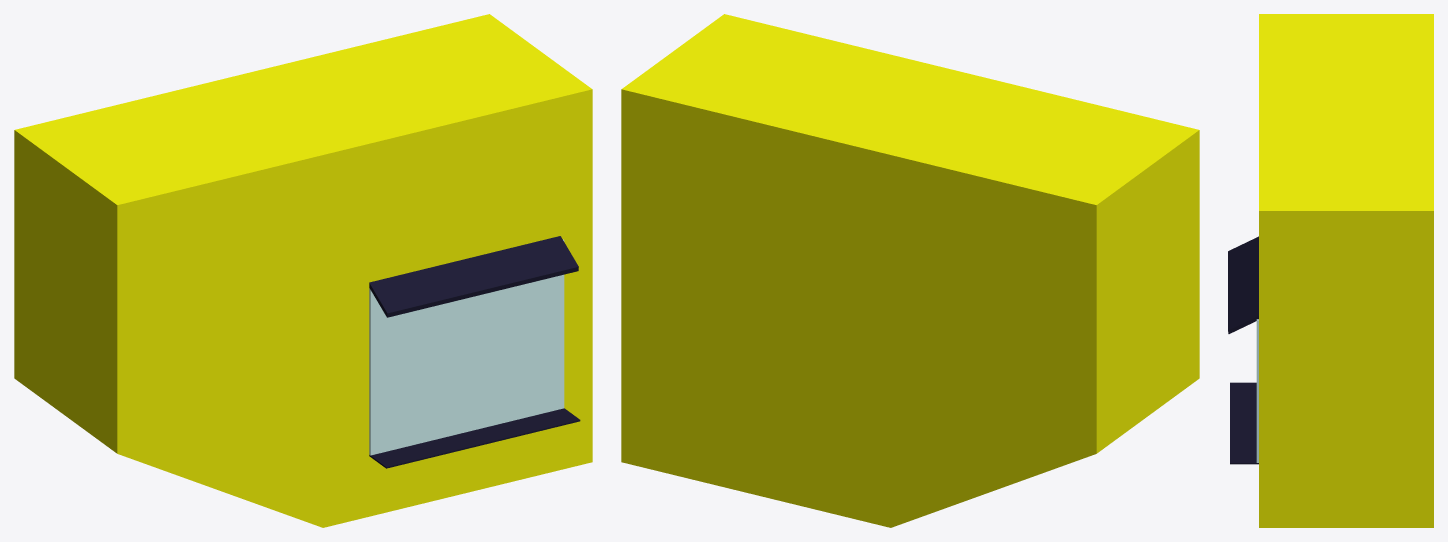
3 views of the same model, side by side, from view 1: azimuth 30°, elevation 25°; view 2: azimuth 150°, elevation 25°; view 3: azimuth 270°, elevation 25° (orthographic). The views are drawn at different scales.
Parts seen in each view (by area): view 1: Mesh_0.013; view 2: Mesh_0.013; view 3: Mesh_0.013.
Boxes of the visible parts, x1,y1,x2,y2 form: Mesh_0.013: (14, 14, 592, 527); Mesh_0.013: (621, 14, 1199, 527); Mesh_0.013: (1228, 14, 1433, 527).
Size of the model in its own units: 4 by 3 by 1.77.
